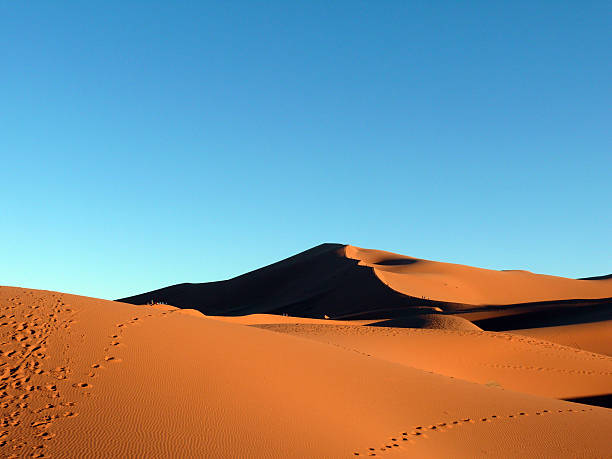animal_footprint: (0, 297, 166, 456), (0, 297, 77, 456), (353, 411, 529, 455), (104, 355, 121, 362), (74, 382, 91, 388), (62, 410, 77, 416), (110, 340, 119, 345), (91, 363, 100, 368)
